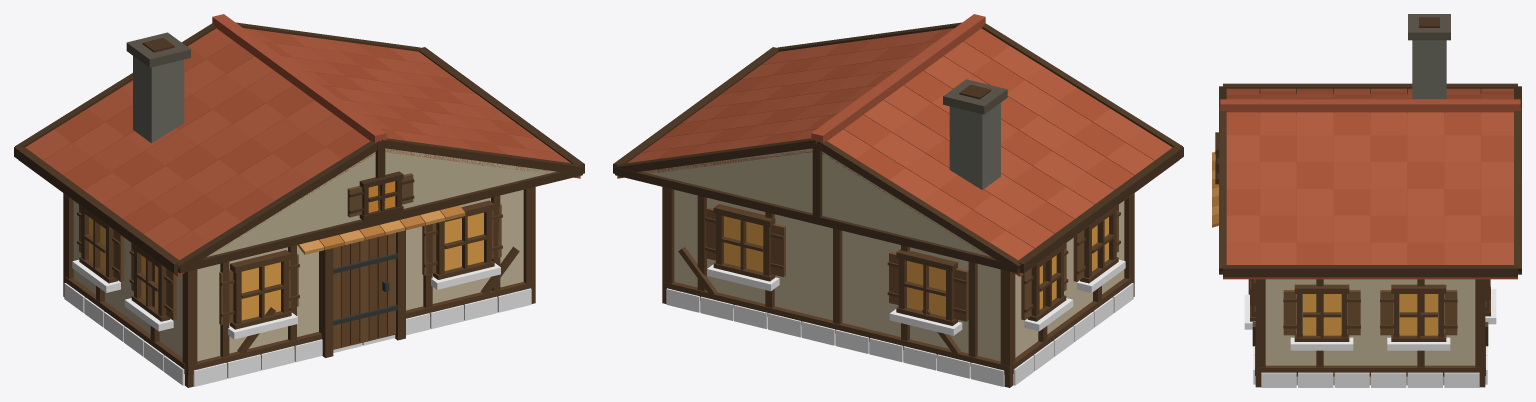
File: weapon_shop.glb
3 views of the same model, side by side, from view 1: azimuth 30°, elevation 25°; view 2: azimuth 150°, elevation 25°; view 3: azimuth 270°, elevation 25° (orthographic). The views are drawn at different scales.
Parts seen in each view (by area): view 1: weapon_shop; view 2: weapon_shop; view 3: weapon_shop.
Boxes of the visible parts, bbox=[...] form: weapon_shop: bbox=[14, 14, 584, 387]; weapon_shop: bbox=[613, 14, 1183, 387]; weapon_shop: bbox=[1212, 14, 1521, 387].
Size of the model in its own units: 8.16 by 4.91 by 5.78.
